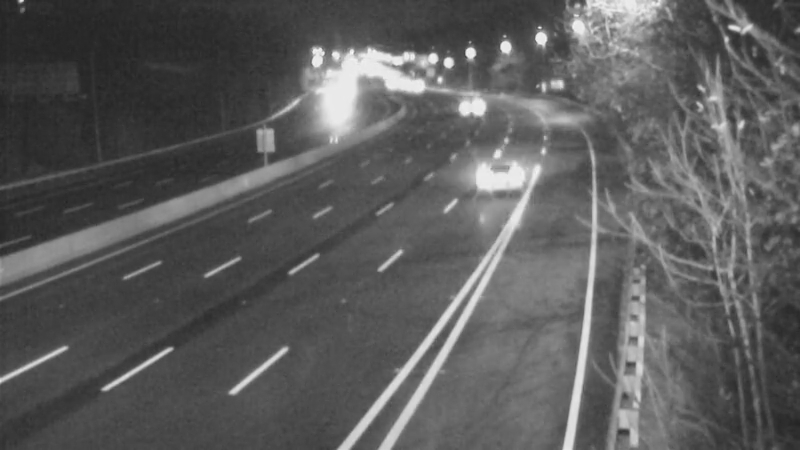vehicle: (451, 131, 531, 211), (441, 81, 491, 131)
